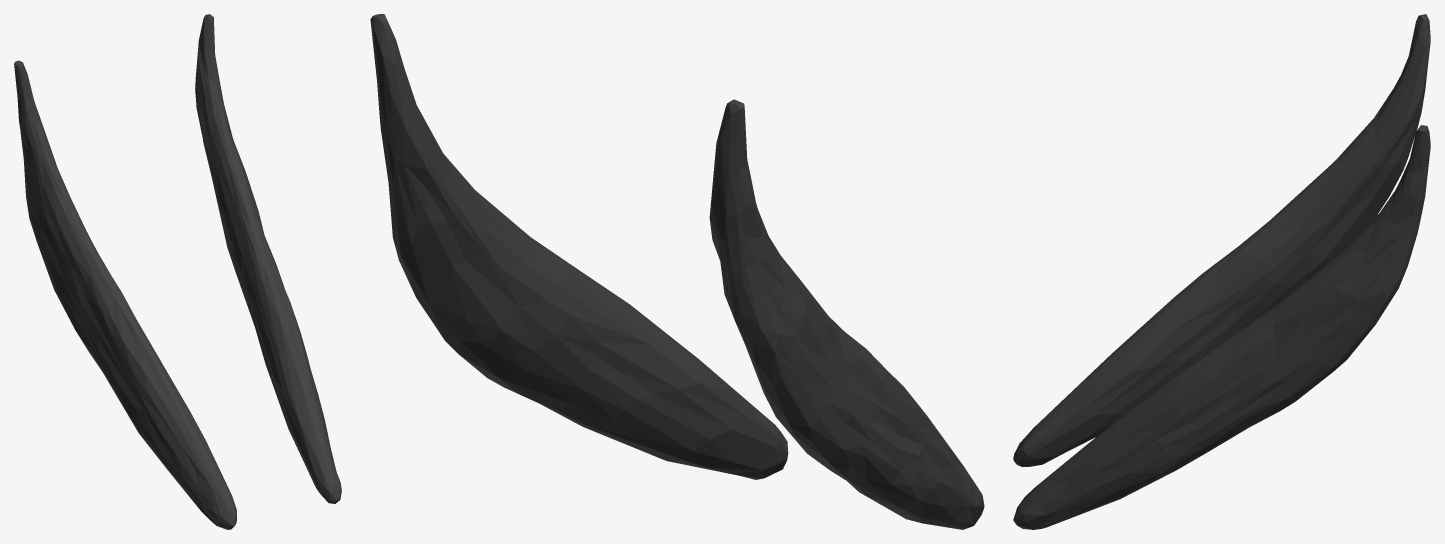
File: m_digastricus_rostral.glb
The picture shows the model from 3 angles, left to right: view 1: azimuth 30°, elevation 25°; view 2: azimuth 150°, elevation 25°; view 3: azimuth 270°, elevation 25°; orthographic projection. The views are drawn at different scales.
Visible parts, largest first — view 1: m_digastricus_rostral; view 2: m_digastricus_rostral; view 3: m_digastricus_rostral.
Boxes of the visible parts, x1,y1,x2,y2 form: m_digastricus_rostral: (14, 14, 341, 529); m_digastricus_rostral: (370, 14, 984, 529); m_digastricus_rostral: (1013, 14, 1430, 529).
Size of the model in its own units: 0.00153 by 0.00257 by 0.00227.
1 material, 1 textured.
